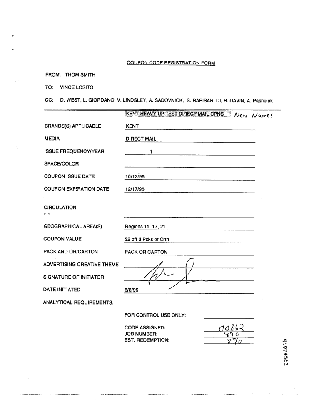textline: (124, 123, 256, 131), (123, 261, 255, 269), (124, 173, 255, 181), (124, 223, 255, 231), (123, 274, 254, 282), (123, 287, 254, 295), (124, 136, 255, 143), (124, 149, 255, 156), (124, 161, 255, 168), (124, 186, 255, 193), (124, 211, 255, 218), (124, 236, 255, 243), (124, 249, 255, 256), (203, 325, 254, 332), (203, 338, 254, 345), (203, 313, 254, 319), (203, 332, 254, 338)
